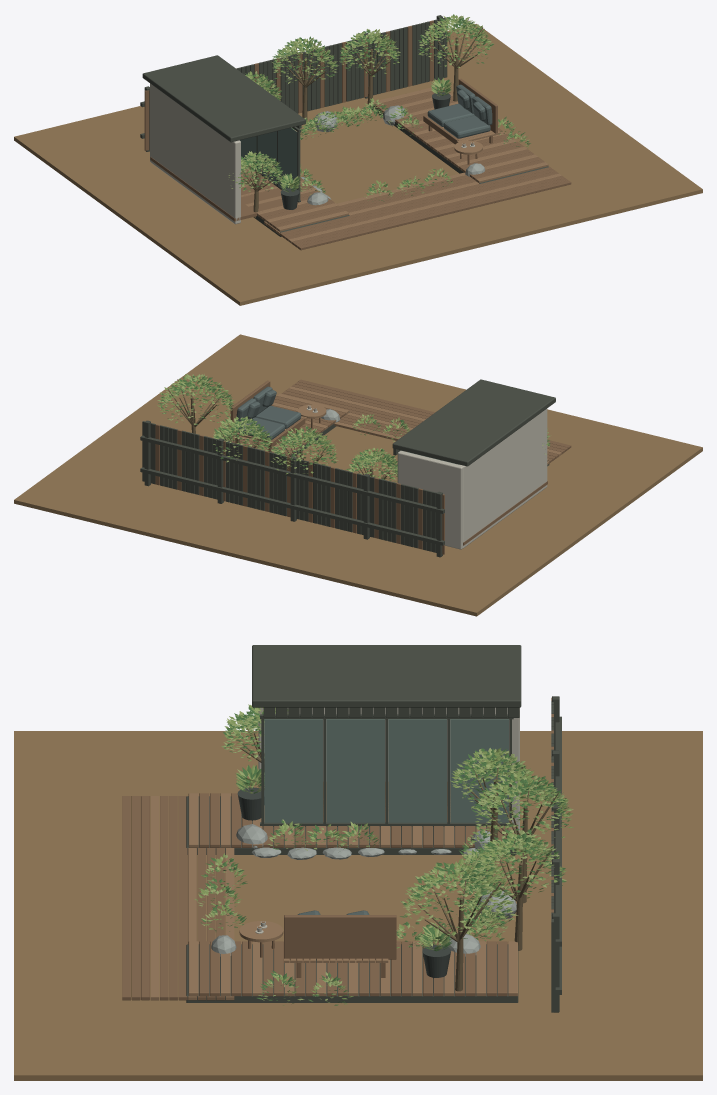
The model's file is refined-courtyard.glb.
The picture shows the model from 3 angles, top to bottom: view 1: azimuth 30°, elevation 25°; view 2: azimuth 150°, elevation 25°; view 3: azimuth 270°, elevation 25°; orthographic projection. The views are drawn at different scales.
Parts seen in each view (by area): view 1: Courtyard_Compacted warm earth.001, Courtyard_Dark stained wood, Courtyard_Oiled cedar, Courtyard_Warm lime plaster, Courtyard_Cedar warm grain, Courtyard_Leaf new growth, Courtyard_Leaf forest, Courtyard_Leaf sunlit, Courtyard_Tree bark, Courtyard_Woven charcoal cushions, Courtyard_Smoky reflective glass, Courtyard_Weathered garden granite (+1 smaller); view 2: Courtyard_Compacted warm earth.001, Courtyard_Dark stained wood, Courtyard_Warm lime plaster, Courtyard_Oiled cedar, Courtyard_Leaf new growth, Courtyard_Leaf sunlit, Courtyard_Leaf forest, Courtyard_Cedar warm grain, Courtyard_Woven charcoal cushions, Courtyard_Tree bark; view 3: Courtyard_Compacted warm earth.001, Courtyard_Oiled cedar, Courtyard_Dark stained wood, Courtyard_Smoky reflective glass, Courtyard_Cedar warm grain, Courtyard_Leaf sunlit, Courtyard_Leaf new growth, Courtyard_Leaf forest, Courtyard_Tree bark, Courtyard_Weathered garden granite, Courtyard_Charcoal ceramic, Courtyard_Warm lime plaster.
Part boxes in pixels (x1,y1,x2,y2): Courtyard_Compacted warm earth.001: (14,24,702,305); Courtyard_Dark stained wood: (140,15,548,236); Courtyard_Oiled cedar: (144,20,571,250); Courtyard_Warm lime plaster: (150,83,474,224); Courtyard_Cedar warm grain: (241,87,561,243); Courtyard_Leaf new growth: (228,15,529,198); Courtyard_Leaf forest: (238,14,530,201); Courtyard_Leaf sunlit: (228,14,528,200); Courtyard_Tree bark: (241,18,482,217); Courtyard_Woven charcoal cushions: (427,84,492,138); Courtyard_Smoky reflective glass: (240,127,297,189); Courtyard_Weathered garden granite: (301,105,485,205); Courtyard_Compacted warm earth.001: (14,334,702,616); Courtyard_Dark stained wood: (140,379,555,557); Courtyard_Warm lime plaster: (307,405,547,549); Courtyard_Oiled cedar: (155,379,571,554); Courtyard_Leaf new growth: (157,374,550,481); Courtyard_Leaf sunlit: (157,374,549,481); Courtyard_Leaf forest: (158,375,550,480); Courtyard_Cedar warm grain: (233,386,561,464); Courtyard_Woven charcoal cushions: (236,386,301,439); Courtyard_Tree bark: (167,379,392,479); Courtyard_Compacted warm earth.001: (14,731,702,1080); Courtyard_Oiled cedar: (122,697,553,1000); Courtyard_Dark stained wood: (186,645,561,1012); Courtyard_Smoky reflective glass: (264,719,508,822); Courtyard_Cedar warm grain: (150,793,517,1000); Courtyard_Leaf sunlit: (194,704,573,1005); Courtyard_Leaf new growth: (198,707,573,1002); Courtyard_Leaf forest: (198,706,569,1005); Courtyard_Tree bark: (237,726,558,991); Courtyard_Weathered garden granite: (211,824,516,956); Courtyard_Charcoal ceramic: (237,787,450,978); Courtyard_Warm lime plaster: (255,707,519,933).
Size of the model in its own units: 13 by 2.53 by 11.
